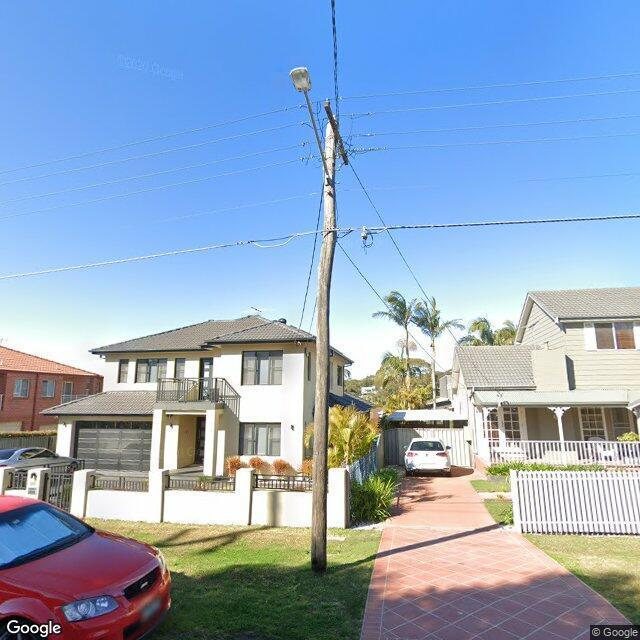crossarm: (322, 102, 349, 167)
streetlight: (291, 65, 332, 185)
timber-pole: (309, 124, 335, 573)
